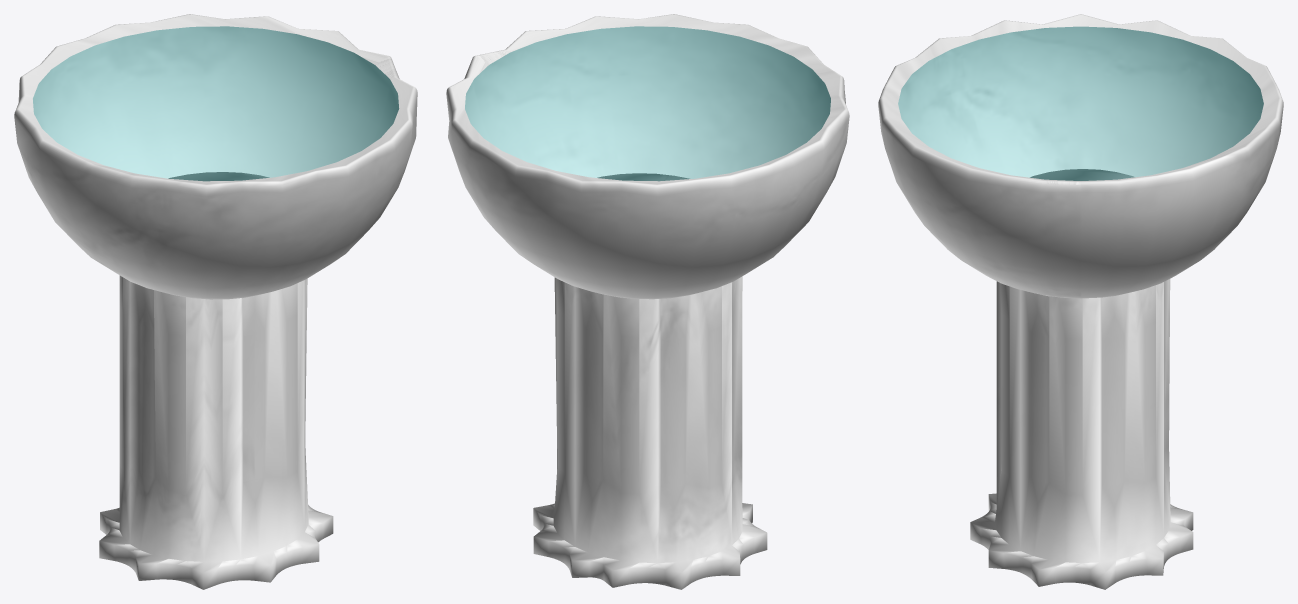
The model's file is Fountain.glb.
3 views of the same model, side by side, from view 1: azimuth 30°, elevation 25°; view 2: azimuth 150°, elevation 25°; view 3: azimuth 270°, elevation 25° (orthographic).
Visible parts, largest first — view 1: Fountain; view 2: Fountain; view 3: Fountain.
Part boxes in pixels (x1=…): Fountain: x1=14, y1=14, x2=417, y2=589; Fountain: x1=446, y1=14, x2=849, y2=589; Fountain: x1=878, y1=14, x2=1283, y2=589.
Size of the model in its own units: 0.8323 by 1 by 0.8326.
Materials: 2 (1 with a texture image).
